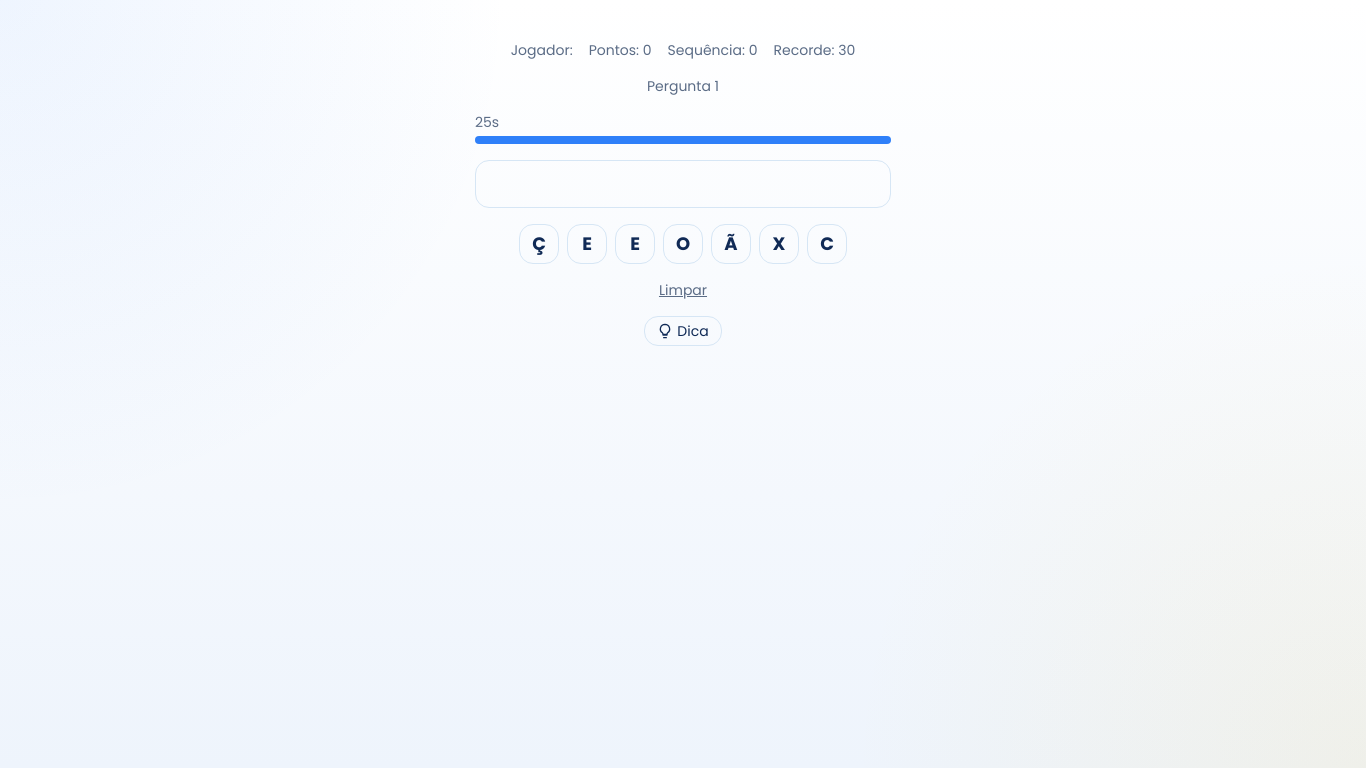
Test: UnscrambleGame no Soletrando › the Dica comes from the Portuguese hints
This screenshot has width=1366, height=768.
Click the button "Dica": click(683, 331) [644, 316, 722, 346]
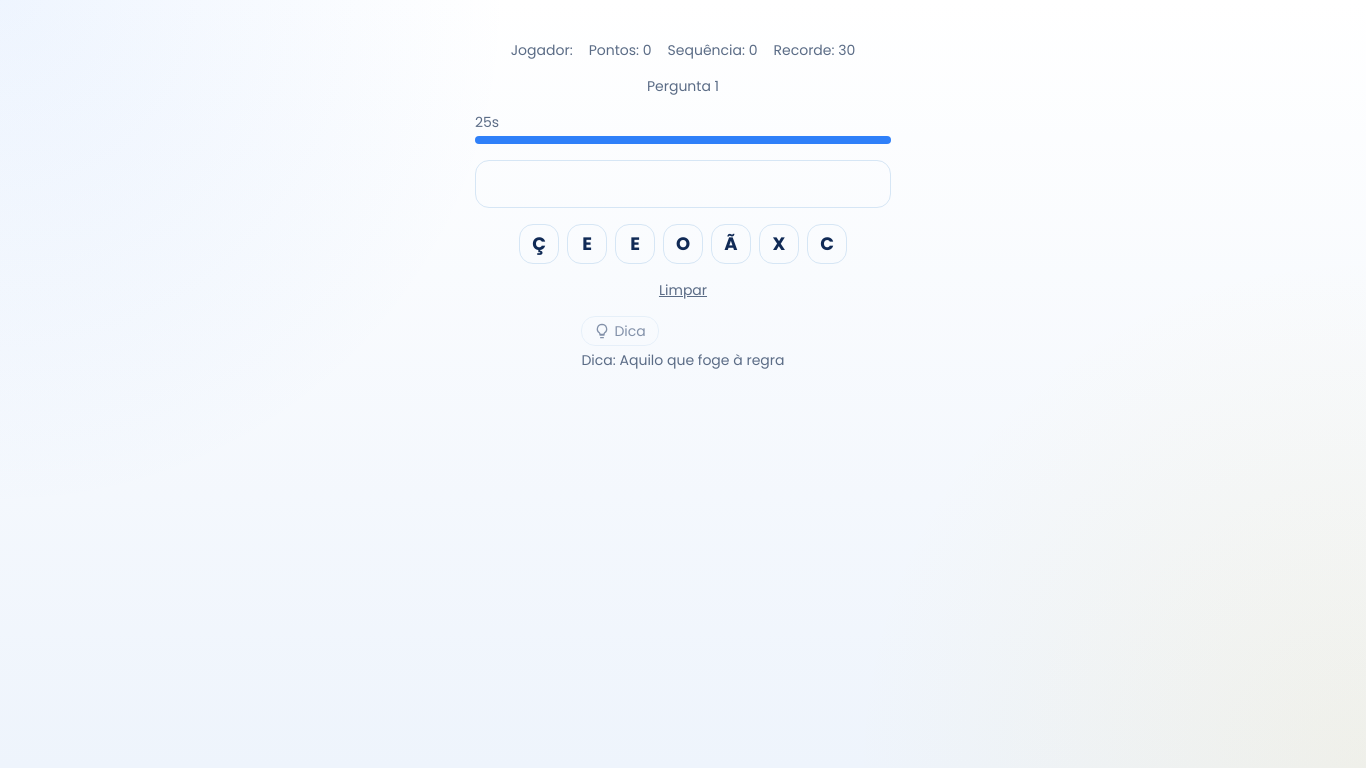
expect the text "Dica: Aquilo que foge à regra" is shown: met, box [582, 350, 784, 370]
